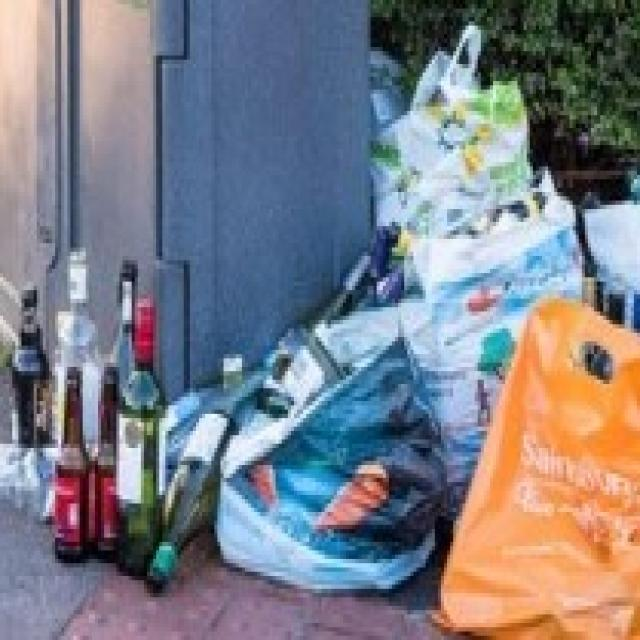electronic: (2, 242, 166, 577)
